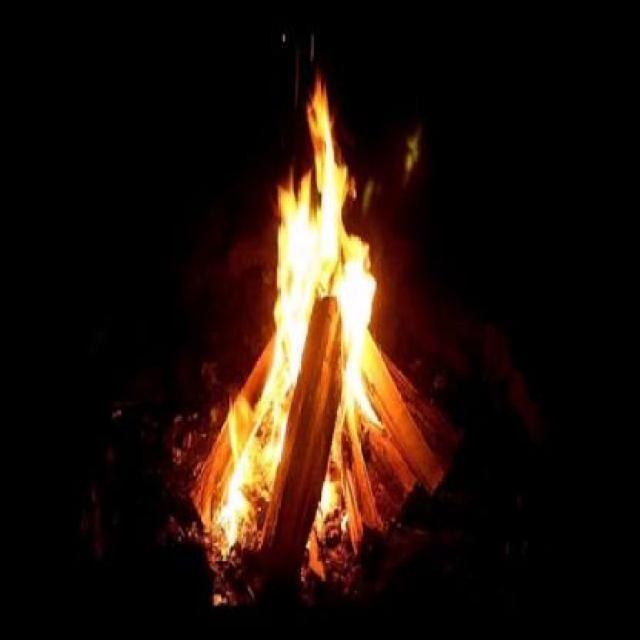Fire: (206, 75, 378, 547)
